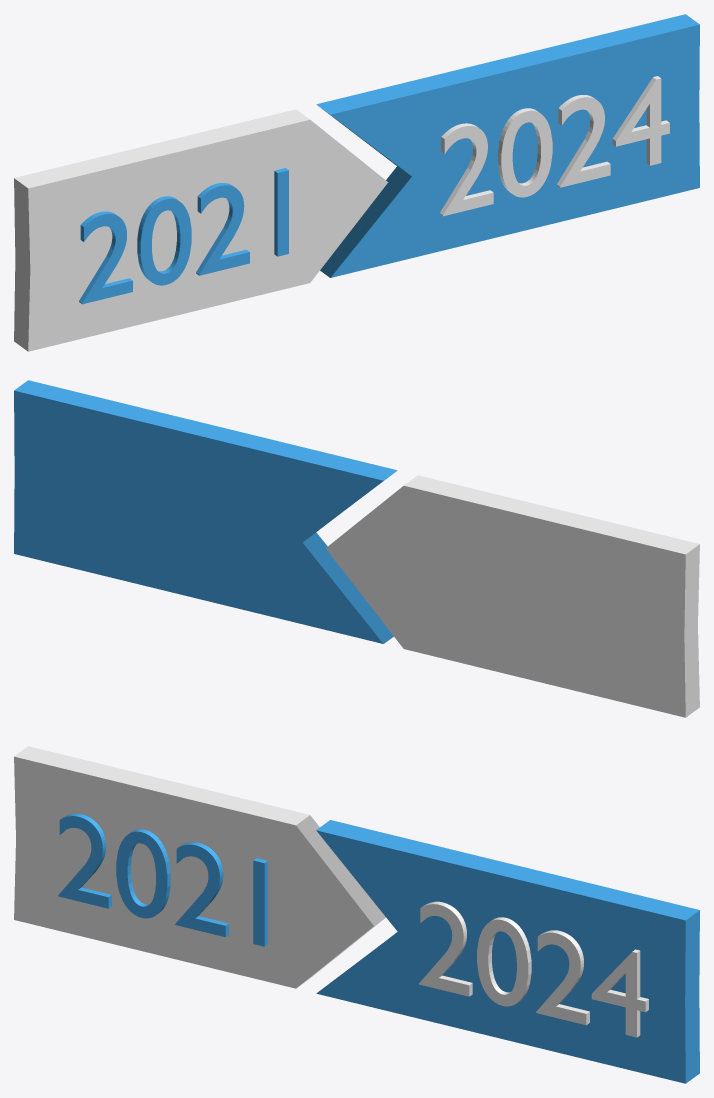
3 views of the same model, one above another, from view 1: azimuth 30°, elevation 25°; view 2: azimuth 150°, elevation 25°; view 3: azimuth 330°, elevation 25° (orthographic).
Visible parts, largest first — view 1: Cube.002, Cube.003, Text.009, Text.011; view 2: Cube.002, Cube.003; view 3: Cube.002, Cube.003, Text.009, Text.011.
Part boxes in pixels (left/top/right/bottom): Cube.002: left=316, top=14, right=699, bottom=277; Cube.003: left=14, top=109, right=388, bottom=351; Text.009: left=439, top=76, right=669, bottom=216; Text.011: left=79, top=168, right=288, bottom=304; Cube.002: left=14, top=380, right=397, bottom=643; Cube.003: left=325, top=475, right=699, bottom=717; Cube.002: left=316, top=820, right=699, bottom=1083; Cube.003: left=14, top=746, right=385, bottom=988; Text.009: left=419, top=901, right=648, bottom=1037; Text.011: left=58, top=813, right=267, bottom=946.
Bounding box in the file's own units: 8.61 × 2 × 0.4277.
